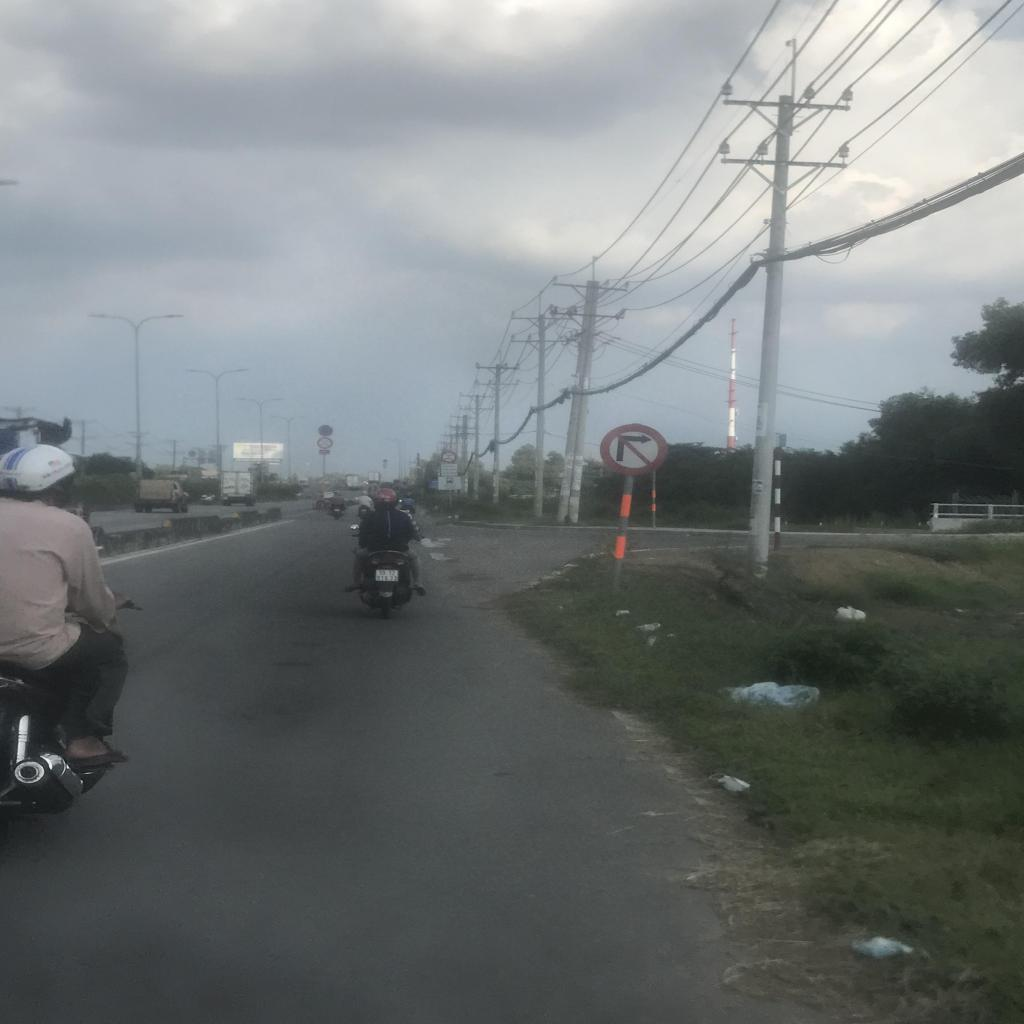cam_dung_xe_va_do_xe: (319, 424, 333, 436)
cam_o_to_tai_va_xe_khach: (441, 451, 457, 463)
cam_re_phai: (598, 424, 668, 476)
cam_xe_2_banh_va_xe_3_banh_co_dong_co: (317, 437, 333, 450)
khac: (438, 476, 460, 490), (440, 464, 458, 476)
